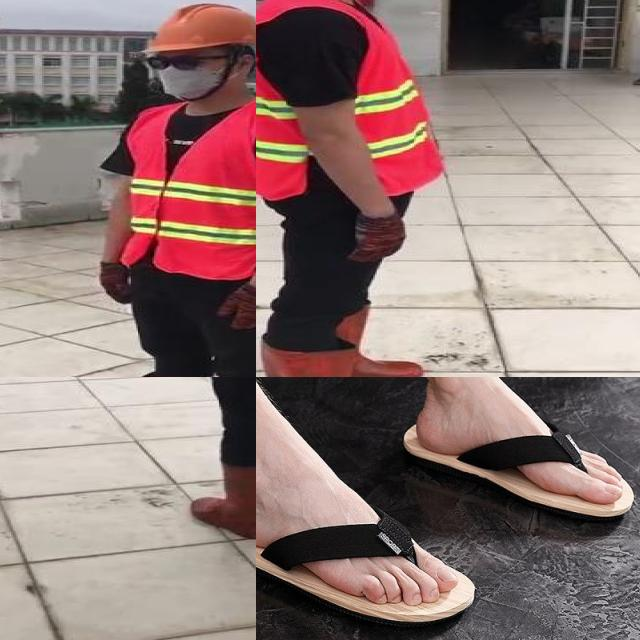Sandals: (256, 452, 474, 623), (406, 380, 638, 521)
boots: (259, 338, 419, 377), (337, 306, 424, 377), (192, 460, 256, 539)
face_mask: (144, 49, 228, 102)
glasses: (138, 50, 220, 76)
hand_glove: (348, 215, 409, 264), (218, 283, 256, 329), (97, 262, 131, 301)
head_helmet: (136, 0, 256, 55)
person: (256, 0, 463, 377), (91, 2, 256, 377), (162, 377, 256, 545)
vest: (256, 0, 440, 199), (120, 101, 256, 281)
